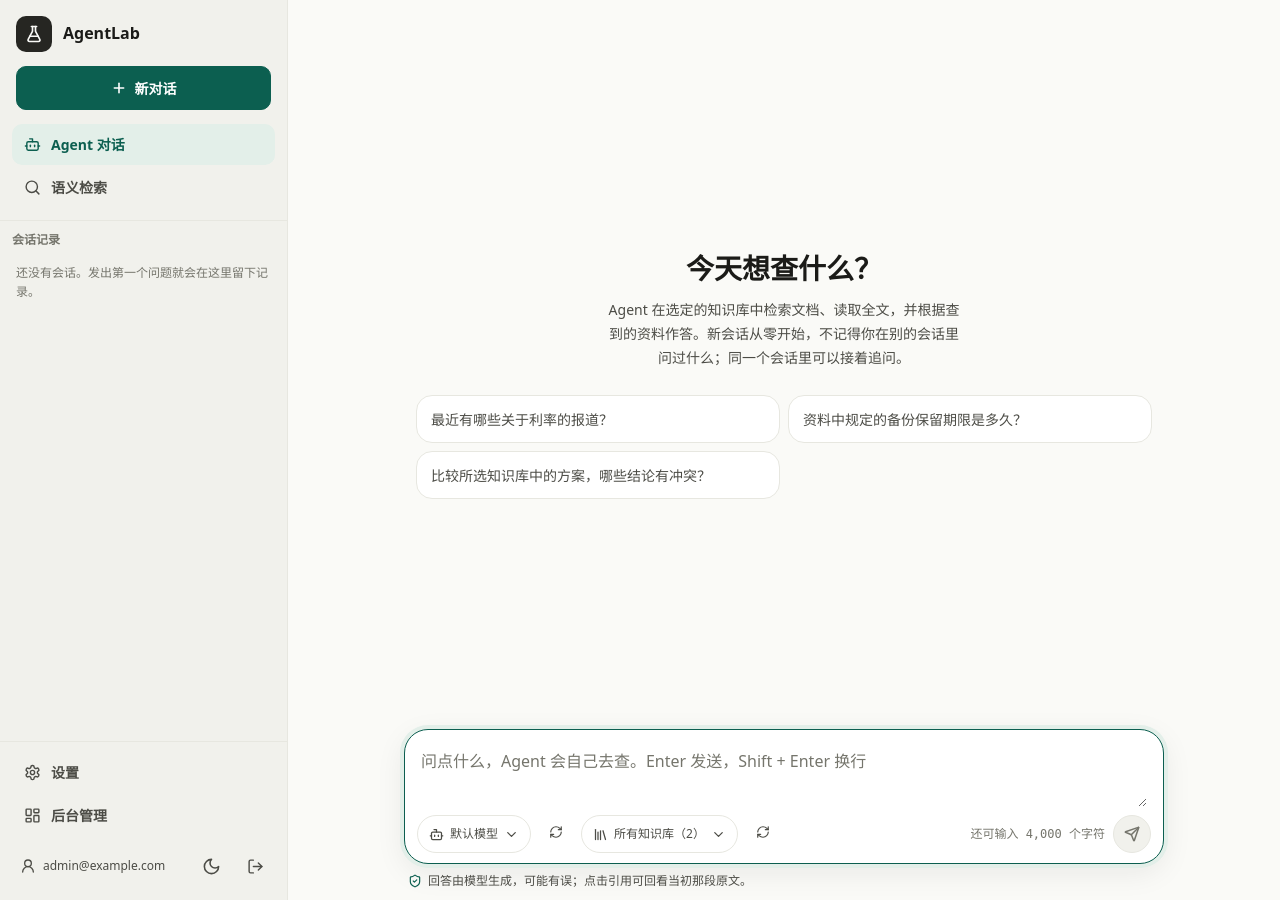
it: AgentChatPage › 首轮失败也把会话并进侧栏，不用等刷新页面
Expected: the navigation bar with class "thread-rail" shows "还没有会话", [16,264,268,300]
Type "会被限流的问题" into the text box with class "message-input" at (784, 774), box [421,742,1147,807]
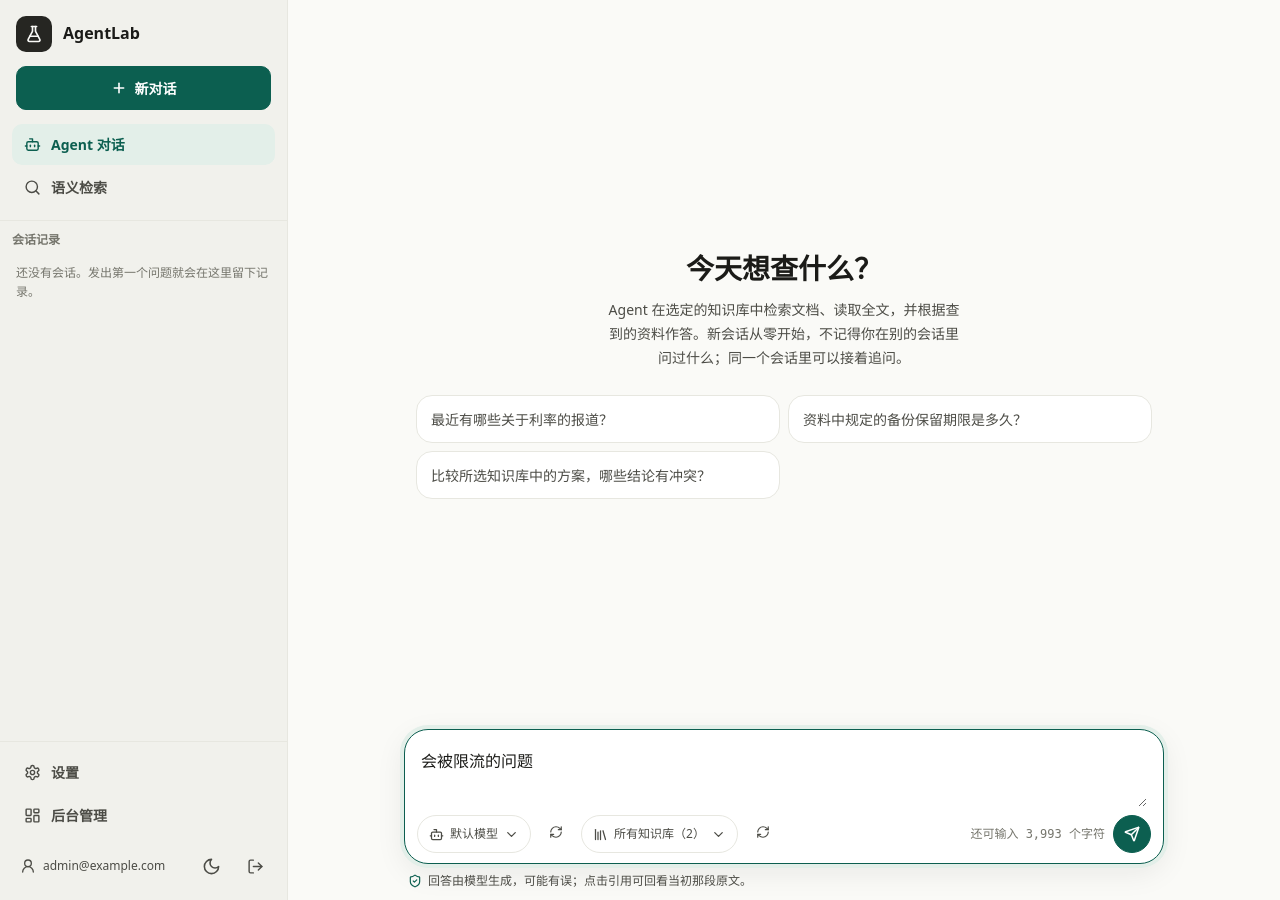
Submit the form with class "agent-form", box [404,729,1164,864]
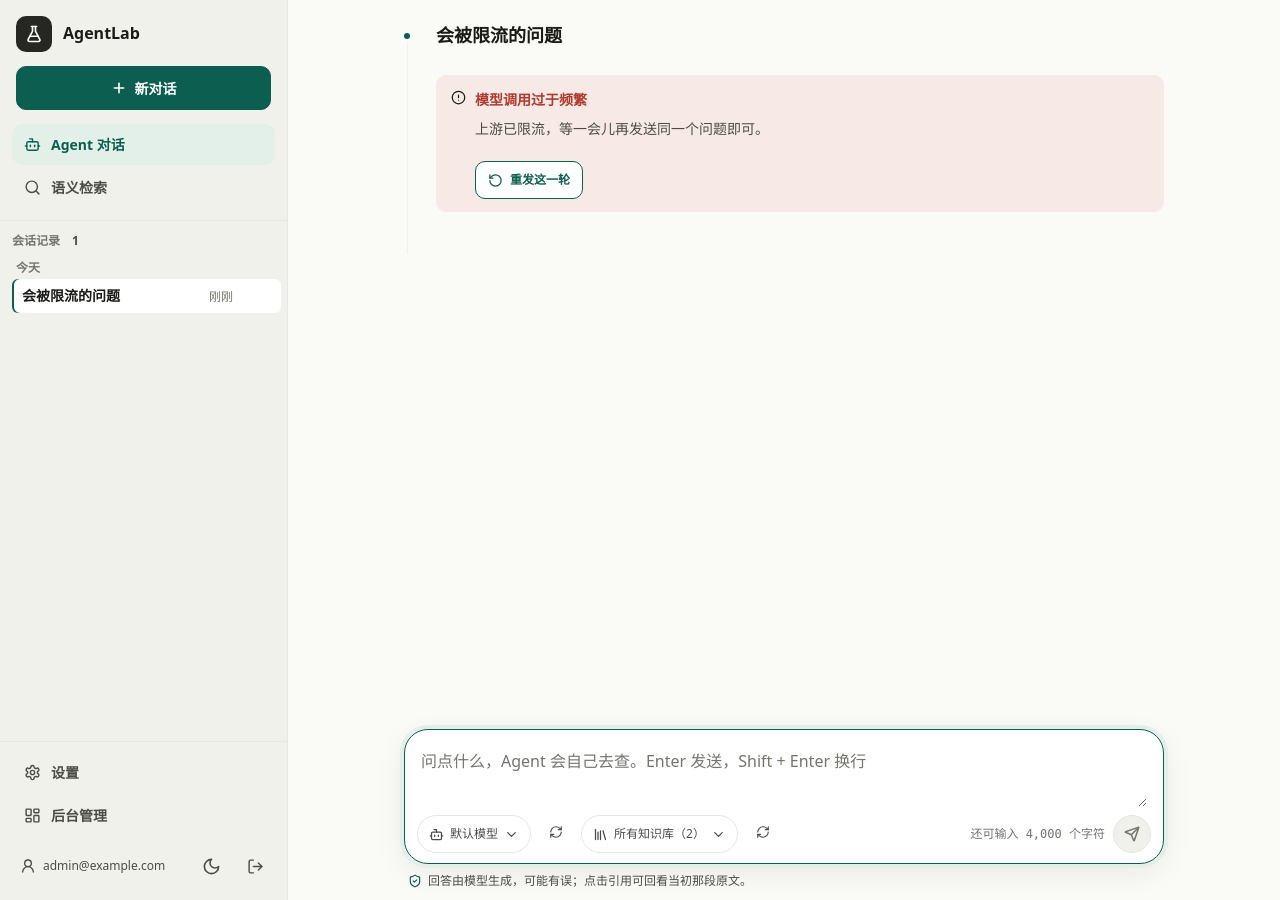
Expected: the text with class "thread-rail" no longer shows "还没有会话"
Expected: the navigation bar with class "thread-rail" shows "会被限流的问题", [12,280,241,312]
